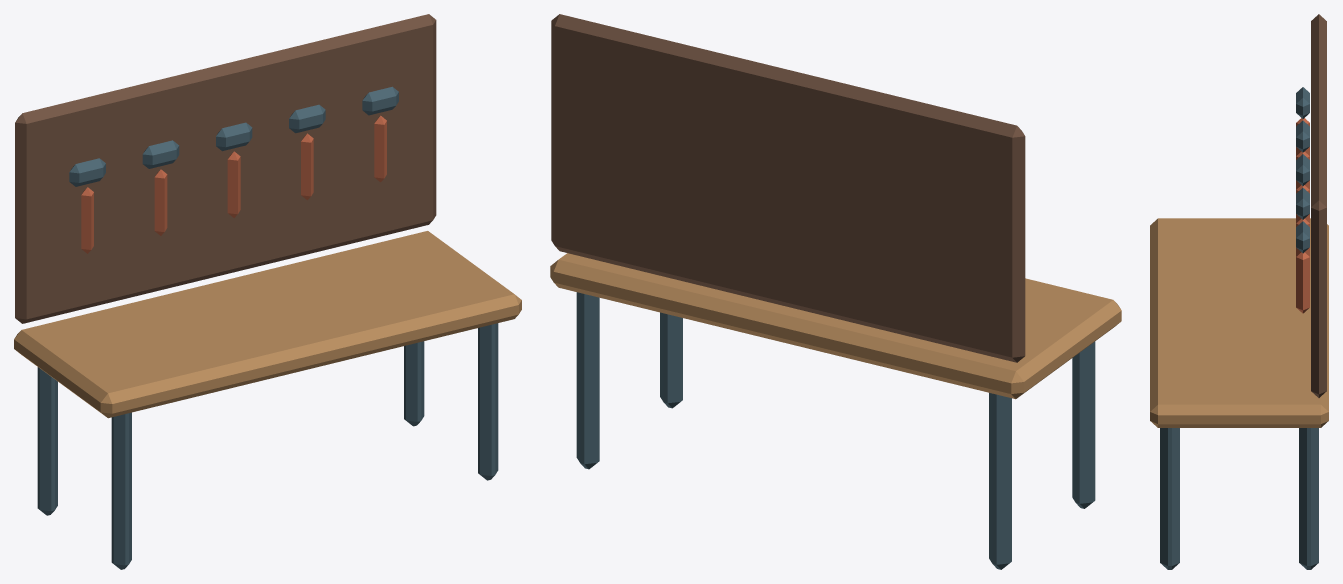
Rendered from tool-bench.glb.
3 renders of one model, left to right at view 1: azimuth 30°, elevation 25°; view 2: azimuth 150°, elevation 25°; view 3: azimuth 270°, elevation 25°, orthographic. The views are drawn at different scales.
Visible parts, largest first — view 1: pegboard, bench-top, bench-support, bench-support.002, bench-support.001, bench-support.003, tool-handle.001, tool-handle.002, tool-head.001, tool-handle.004, tool-handle.003, tool-handle (+4 smaller); view 2: pegboard, bench-top, bench-support.003, bench-support.001, bench-support, bench-support.002; view 3: bench-top, pegboard, bench-support.002, bench-support.003, tool-handle.004, tool-head.001, tool-head.004, tool-head.003, tool-head, tool-head.002.
Boxes of the visible parts, x1,y1,x2,y2 form: pegboard: [15, 14, 436, 323]; bench-top: [14, 231, 521, 418]; bench-support: [111, 412, 131, 569]; bench-support.002: [478, 323, 498, 480]; bench-support.001: [37, 367, 57, 515]; bench-support.003: [404, 341, 424, 426]; tool-handle.001: [154, 169, 167, 235]; tool-handle.002: [227, 151, 240, 217]; tool-head.001: [142, 140, 179, 168]; tool-handle.004: [374, 115, 386, 182]; tool-handle.003: [301, 133, 313, 200]; tool-handle: [81, 187, 93, 253]; pegboard: [551, 14, 1025, 362]; bench-top: [550, 253, 1121, 399]; bench-support.003: [576, 292, 599, 469]; bench-support.001: [989, 393, 1011, 569]; bench-support: [1072, 341, 1095, 508]; bench-support.002: [660, 312, 682, 408]; bench-top: [1150, 218, 1328, 427]; pegboard: [1311, 14, 1326, 397]; bench-support.002: [1160, 428, 1179, 569]; bench-support.003: [1299, 428, 1318, 569]; tool-handle.004: [1296, 252, 1309, 313]; tool-head.001: [1296, 120, 1309, 152]; tool-head.004: [1296, 221, 1309, 253]; tool-head.003: [1296, 188, 1309, 219]; tool-head: [1296, 87, 1309, 118]; tool-head.002: [1296, 154, 1309, 185].
Size of the model in its own units: 2.3 by 2.1 by 0.9.
